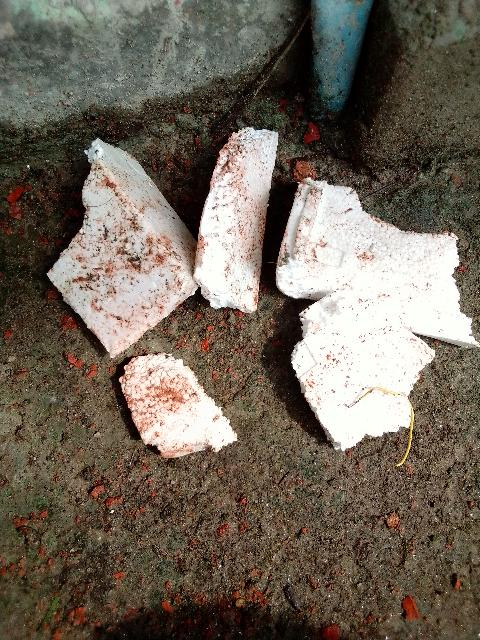cocksheet: (35, 58, 473, 329)
